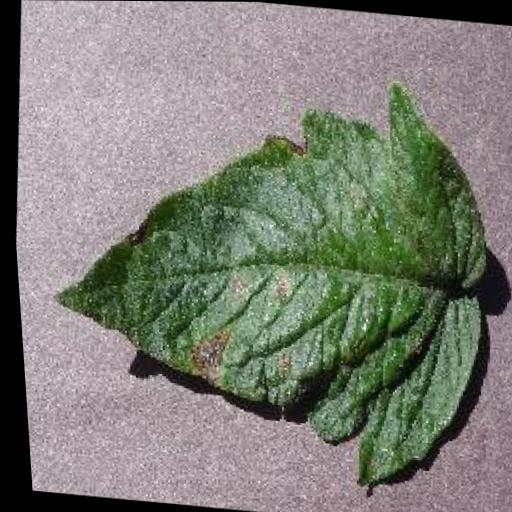Early Blight: (23, 46, 512, 492)
